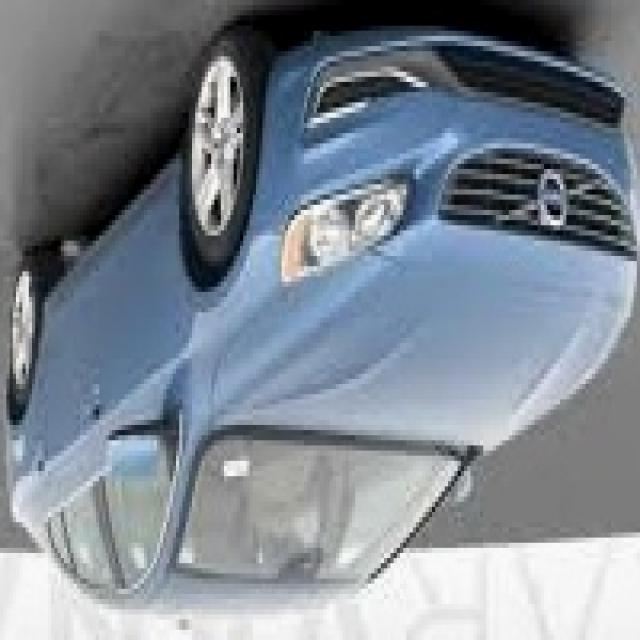blue: (0, 1, 634, 622)
